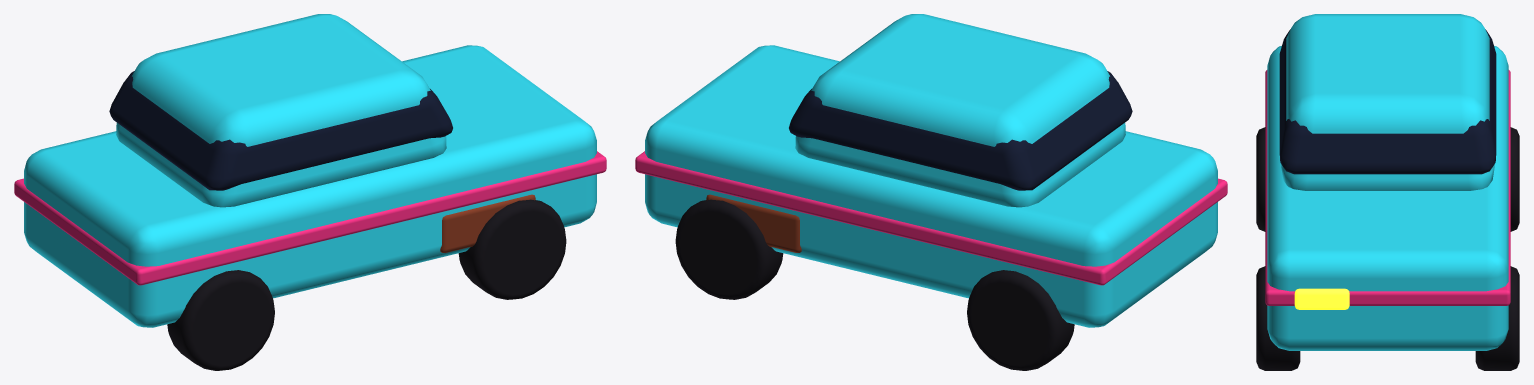
File: car.glb
3 renders of one model, left to right at view 1: azimuth 30°, elevation 25°; view 2: azimuth 150°, elevation 25°; view 3: azimuth 270°, elevation 25°, orthographic. The views are drawn at different scales.
Parts seen in each view (by area): view 1: carMesh; view 2: carMesh; view 3: carMesh.
Boxes of the visible parts, x1,y1,x2,y2 form: carMesh: [14, 14, 606, 370]; carMesh: [635, 14, 1227, 370]; carMesh: [1256, 14, 1519, 370].
Bounding box in the file's own units: 2.44 × 1.14 × 1.2.
